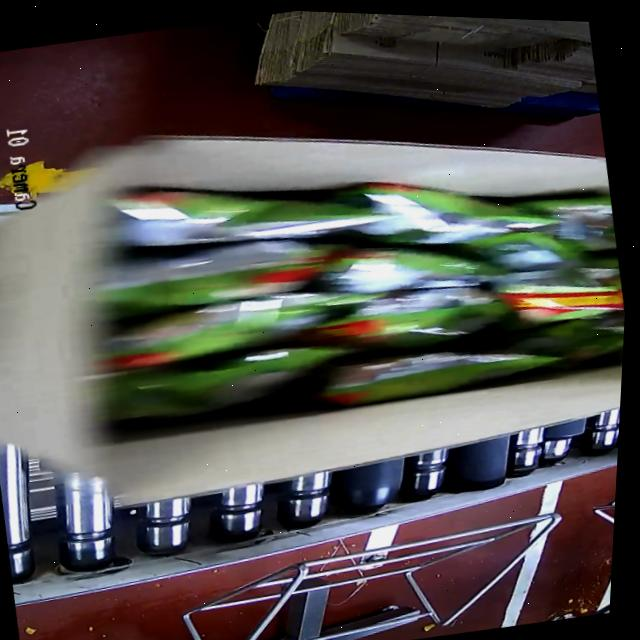YOGURT_HERB: (89, 115, 634, 446)
